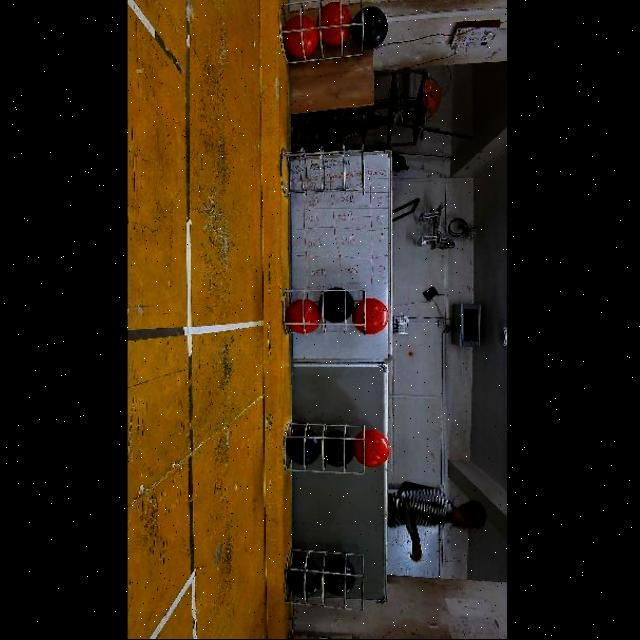P: (350, 6, 388, 50), (287, 558, 322, 599), (285, 429, 321, 466), (324, 557, 355, 596), (320, 288, 354, 323), (323, 431, 354, 468)
R: (283, 14, 318, 57), (318, 2, 351, 47), (353, 430, 390, 468), (351, 298, 388, 335), (285, 299, 321, 334)
S: (278, 0, 366, 66), (282, 548, 366, 614), (280, 142, 366, 200), (282, 421, 368, 477), (280, 286, 368, 336)
